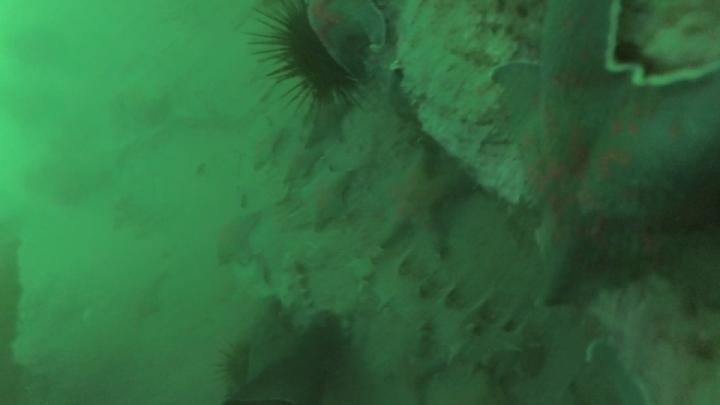echinus: (241, 2, 370, 130), (202, 332, 261, 394)
holothurian: (342, 240, 543, 388)
starfish: (490, 1, 720, 312), (366, 148, 473, 260), (303, 1, 388, 79), (293, 167, 362, 234), (208, 196, 268, 270), (292, 88, 355, 154), (118, 277, 175, 328), (281, 142, 325, 187), (248, 124, 289, 172)
